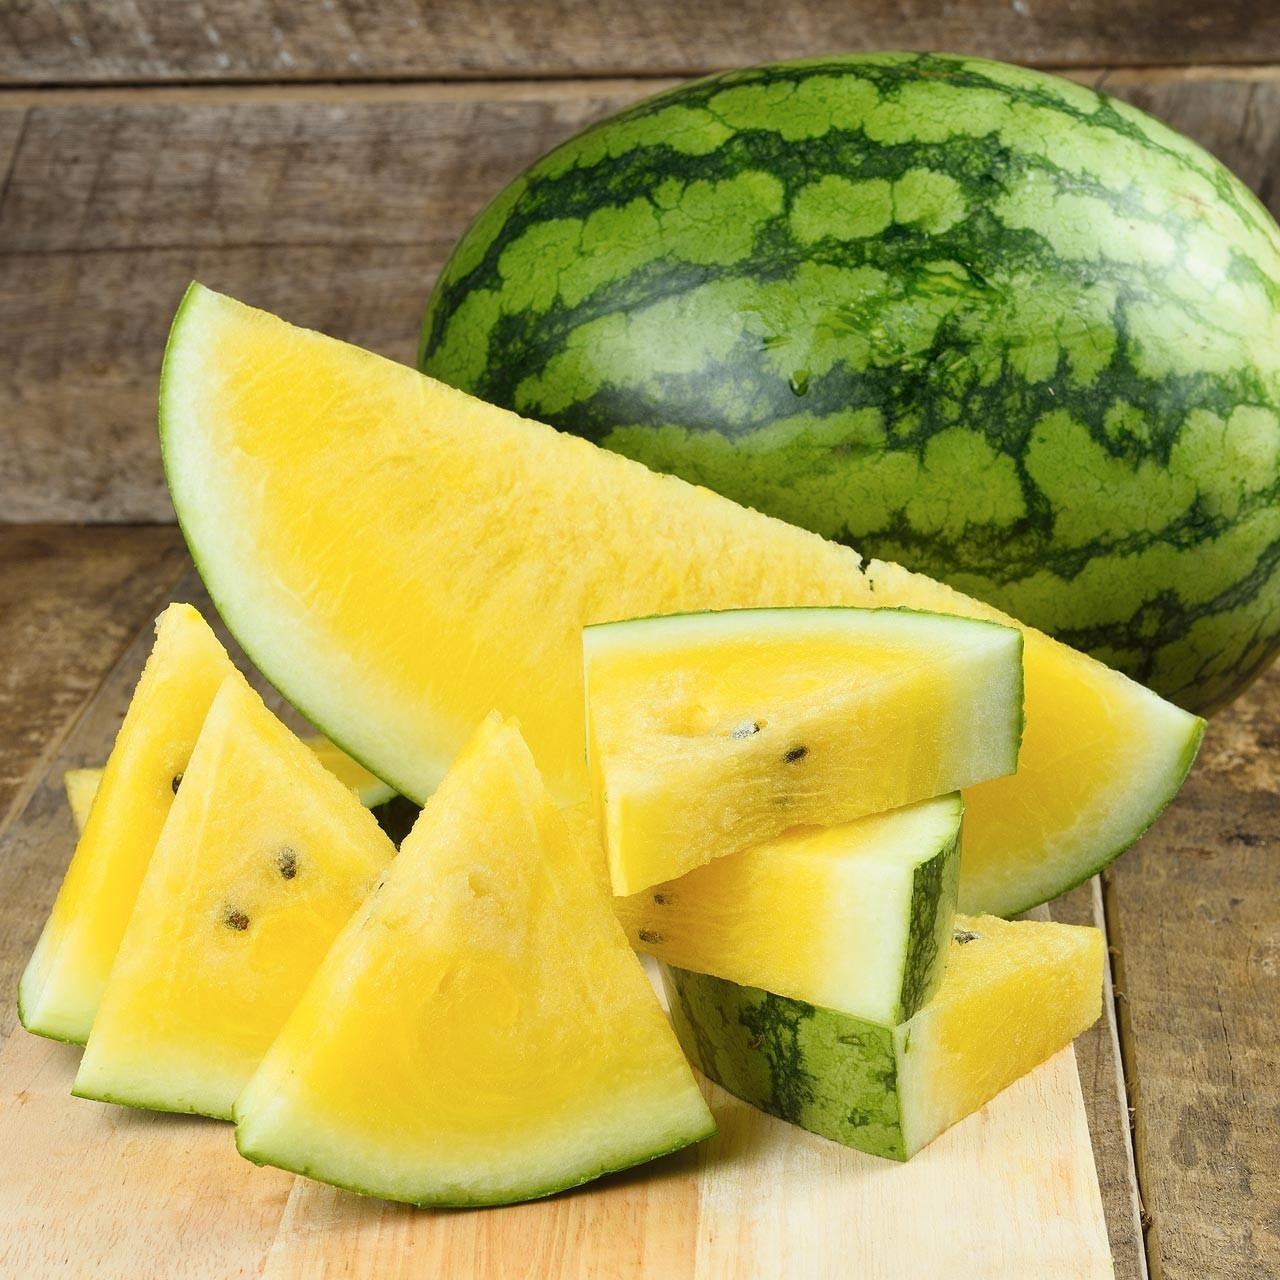apple: (155, 278, 1208, 918), (416, 50, 1280, 721), (231, 708, 719, 1211), (69, 669, 399, 1123), (580, 605, 1027, 899), (665, 910, 1108, 1164), (16, 600, 237, 1048), (613, 792, 966, 1029)
apricot: (154, 275, 1207, 918), (415, 49, 1279, 720), (231, 708, 719, 1211), (69, 670, 399, 1123)
banana: (155, 278, 1207, 918)
grapes: (417, 50, 1279, 720)
melon: (154, 277, 1208, 918), (415, 49, 1279, 721), (231, 707, 719, 1211), (68, 670, 399, 1123), (666, 908, 1108, 1163), (16, 600, 243, 1047)
